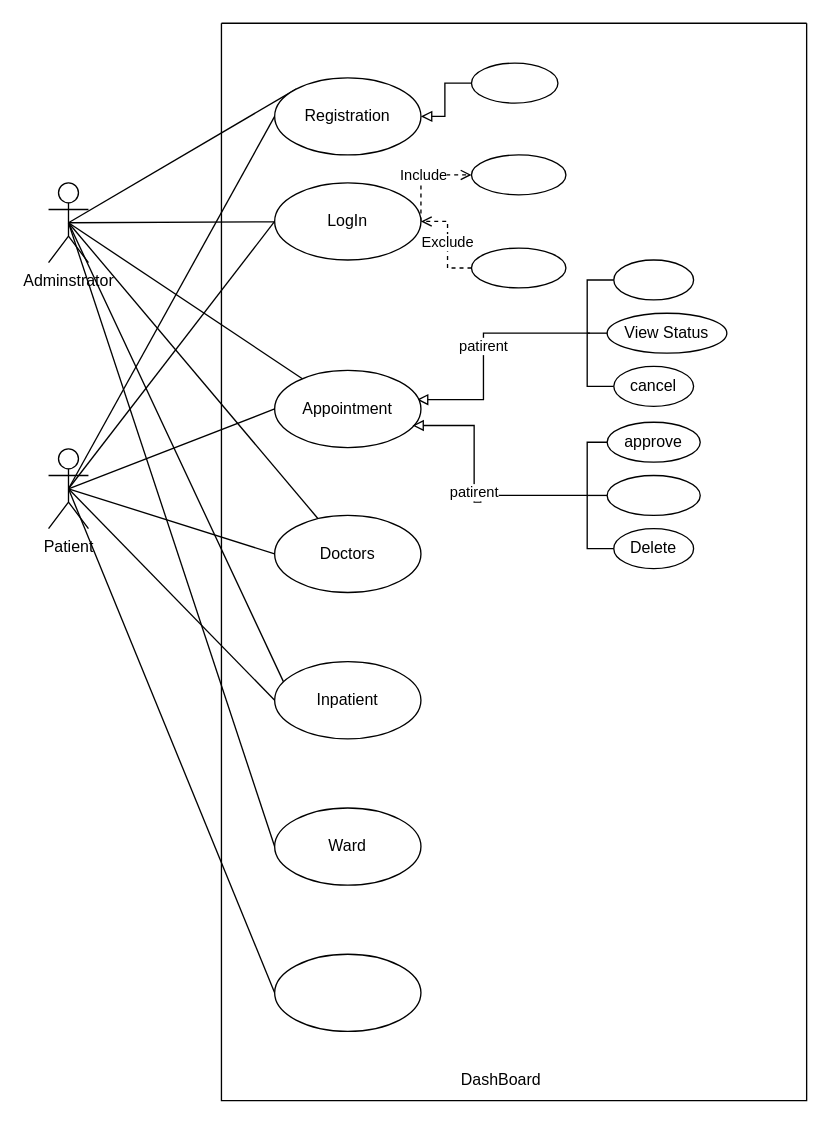
Image size: 830x1124. Some labels were removed from this diagram. The box of each missing label's shape, as (x1, y1, x2, y2) in pixels:
Authenticate: (470, 154, 566, 195)
Create: (612, 259, 694, 300)
Create acc: (470, 62, 558, 103)
Outpatient: (273, 953, 421, 1031)
send err msg: (470, 247, 566, 288)
View List: (606, 474, 700, 515)
